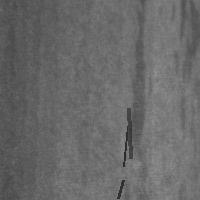inclusion: (127, 1, 152, 179), (173, 1, 199, 91), (176, 81, 192, 148), (121, 124, 129, 168), (126, 106, 132, 160), (116, 178, 125, 200)
